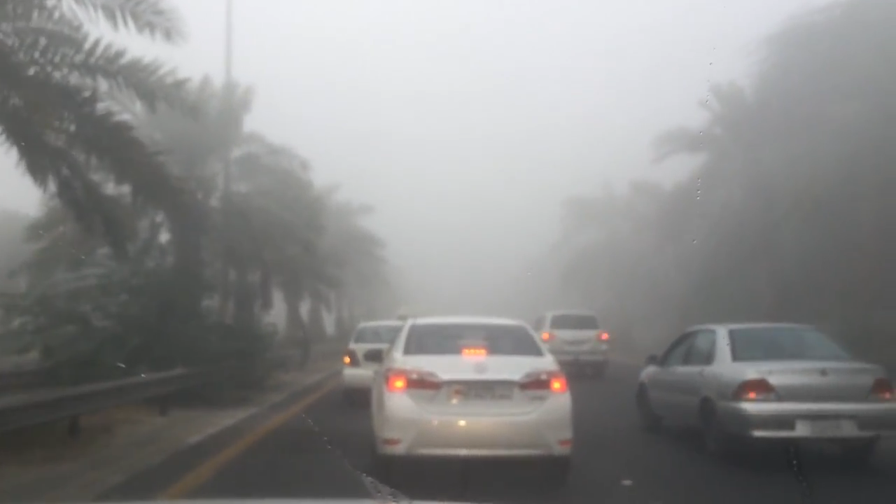car: (636, 322, 896, 455), (368, 315, 574, 470), (341, 319, 435, 397), (532, 310, 612, 378)
